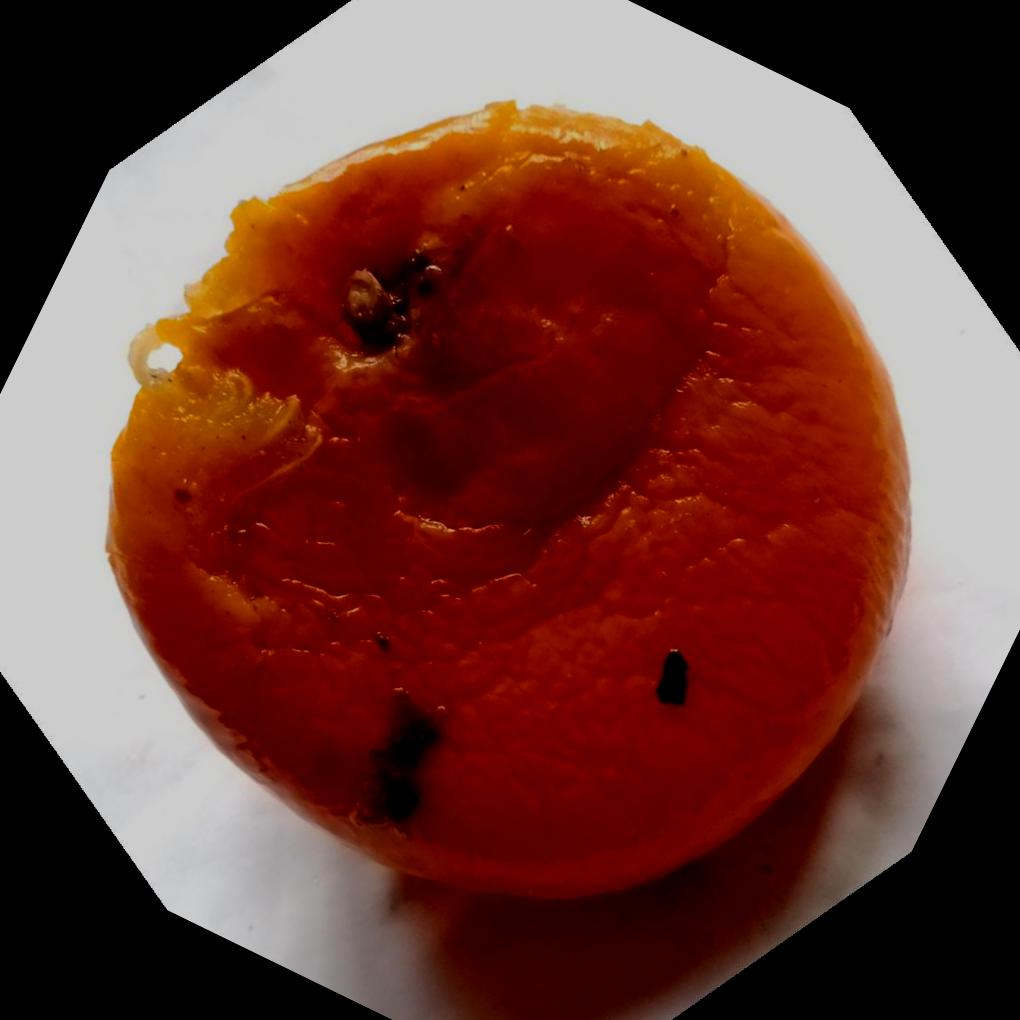FreshOrange: (100, 99, 912, 910)
